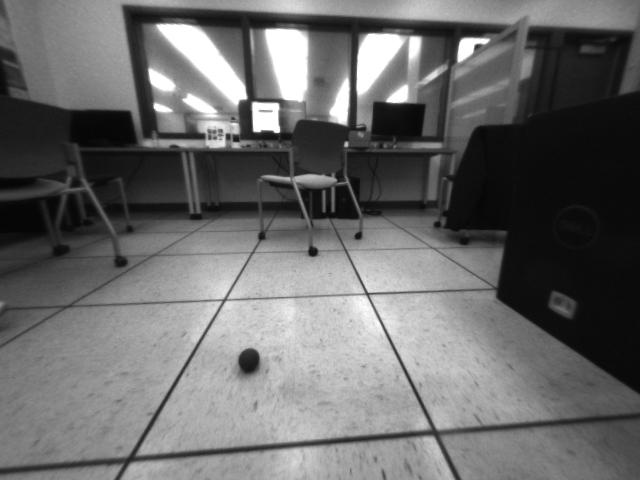dogtoy: (231, 339, 268, 379)
